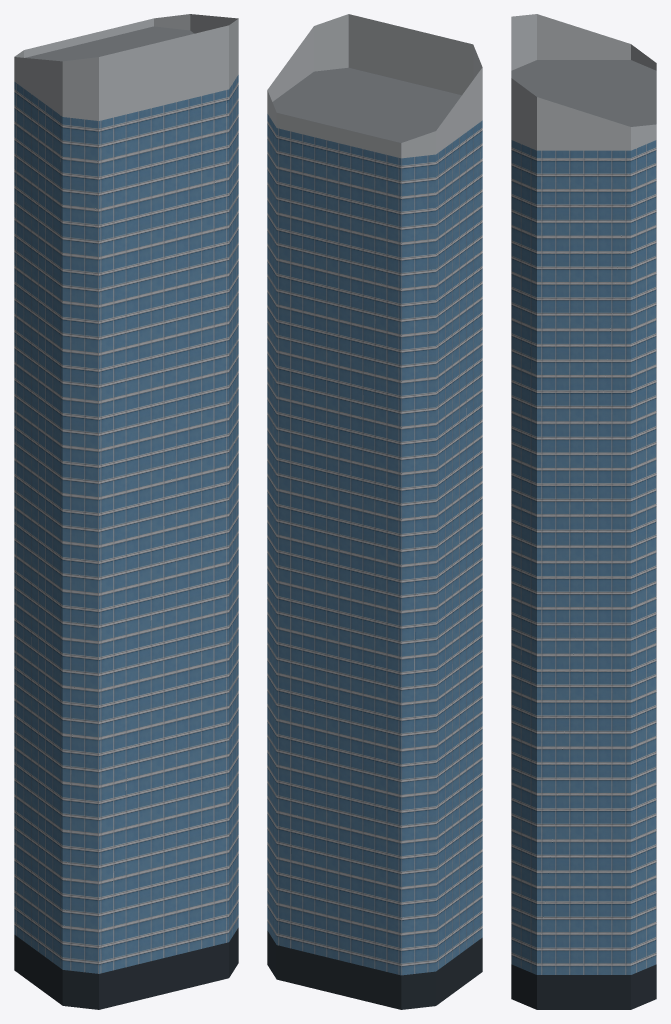
Rendered from gen_tall_glass_office.glb.
3 renders of one model, left to right at view 1: azimuth 30°, elevation 25°; view 2: azimuth 150°, elevation 25°; view 3: azimuth 270°, elevation 25°, orthographic. The views are drawn at different scales.
Visible parts, largest first — view 1: gen_tall_glass_office; view 2: gen_tall_glass_office; view 3: gen_tall_glass_office.
Part boxes in pixels (x1=…): gen_tall_glass_office: x1=14, y1=14, x2=238, y2=1009; gen_tall_glass_office: x1=267, y1=14, x2=482, y2=1009; gen_tall_glass_office: x1=511, y1=14, x2=656, y2=1009.
Bounding box in the file's own units: 46 × 238 × 34.
2 materials, 2 textured.
